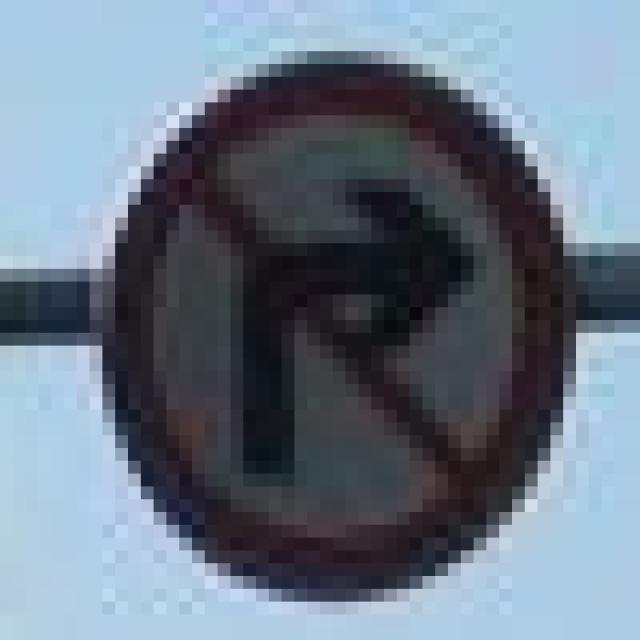right turn prohibited: (89, 35, 578, 601)
